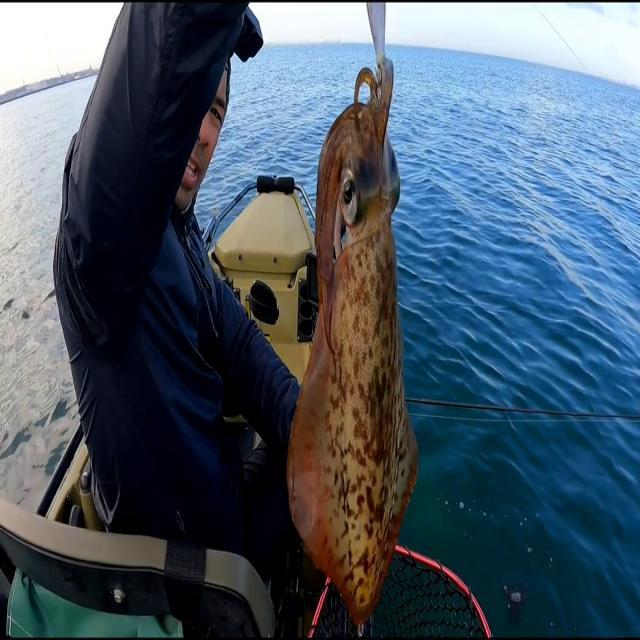SQUID: (280, 38, 430, 640)
